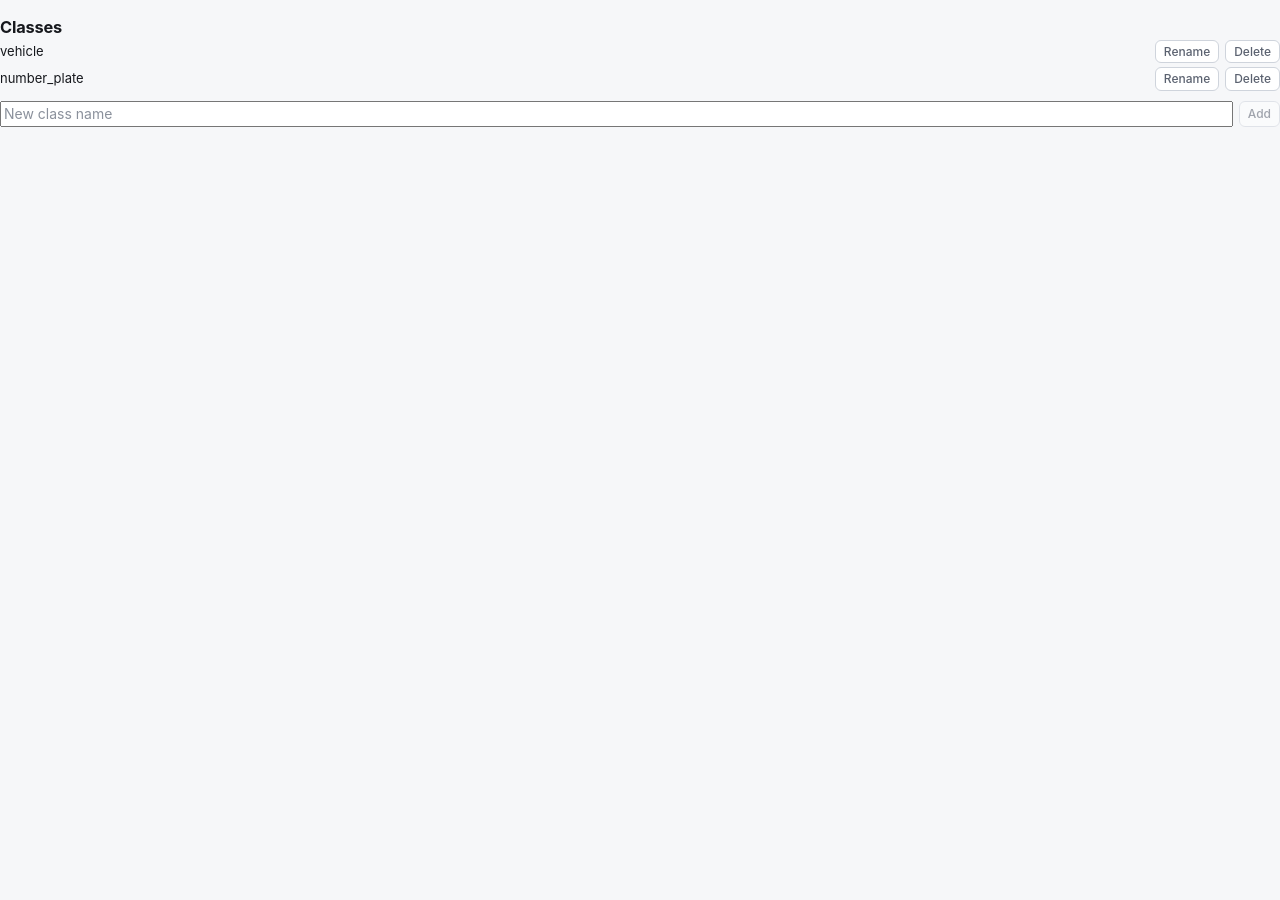
Test: ClassSchemaEditor › remaps the labels onto the chosen class
Click the button with aria-label "delete number_plate" at point(1253, 79), box [1225, 67, 1279, 90]
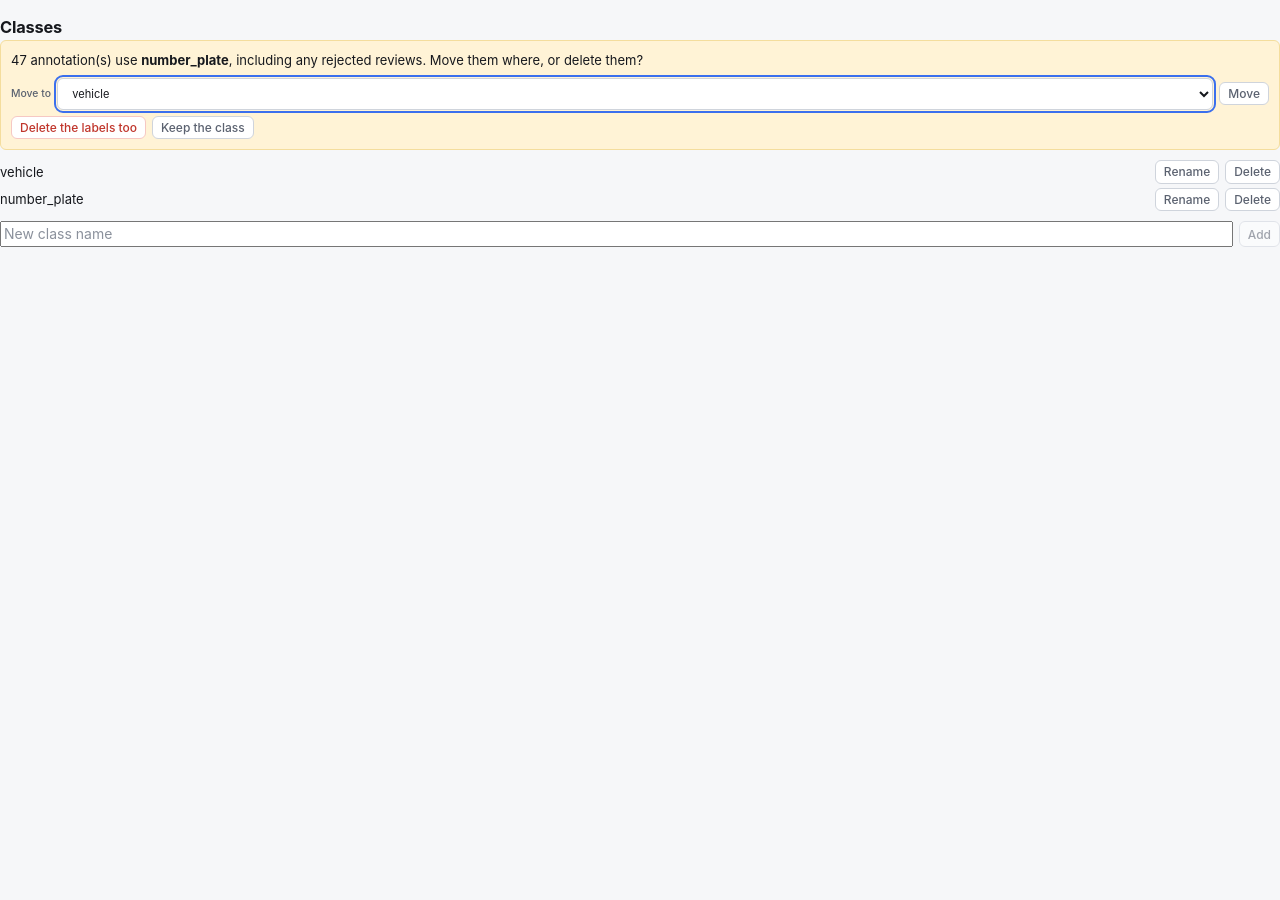
Expected: the dialog is shown, [0, 40, 1279, 150]
Click the button "Move" at point(1244, 94), box [1219, 82, 1269, 106]
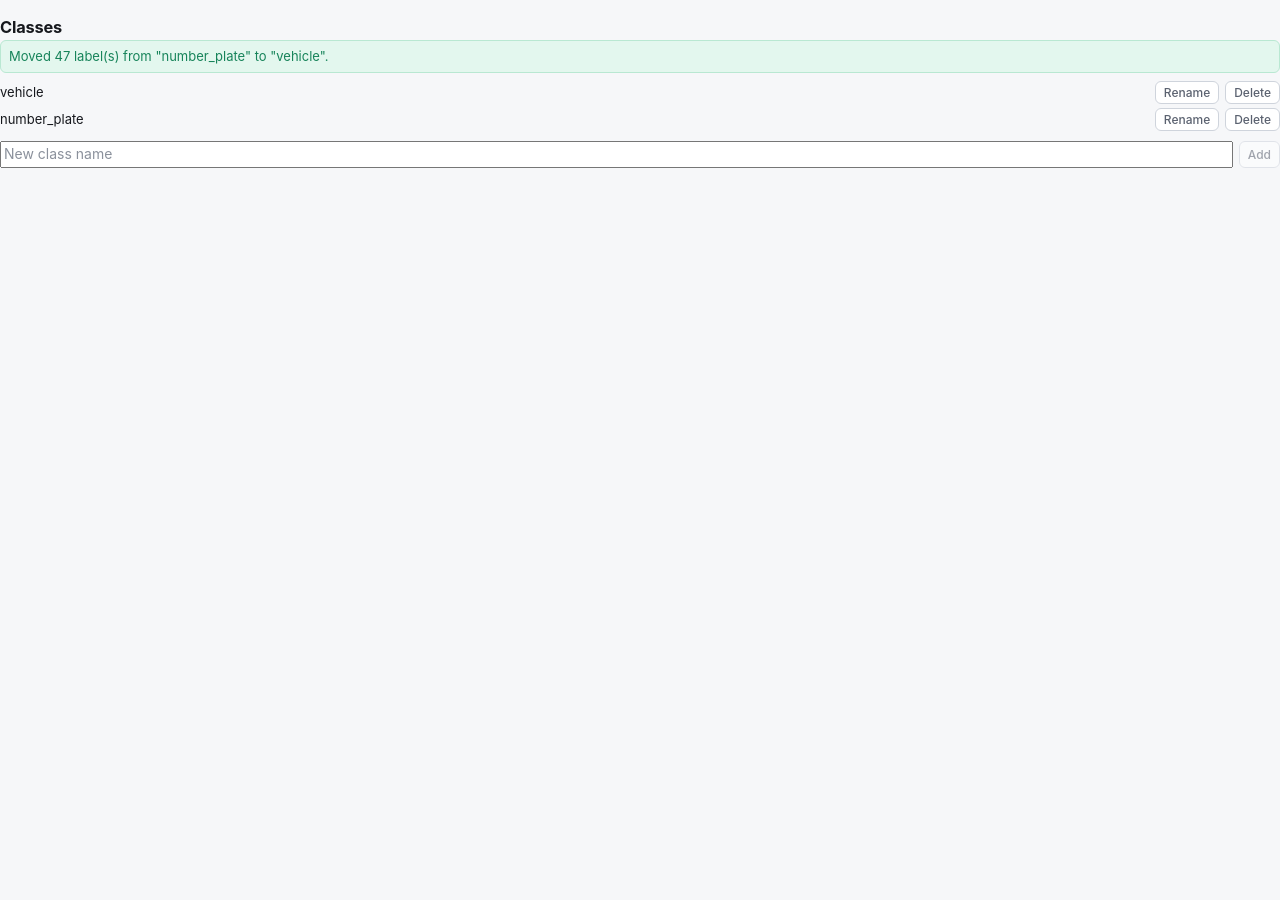
Expected: the message shows "Moved 47 label(s) from \"number_plate\" to \"vehicle\"", [9, 48, 328, 64]
